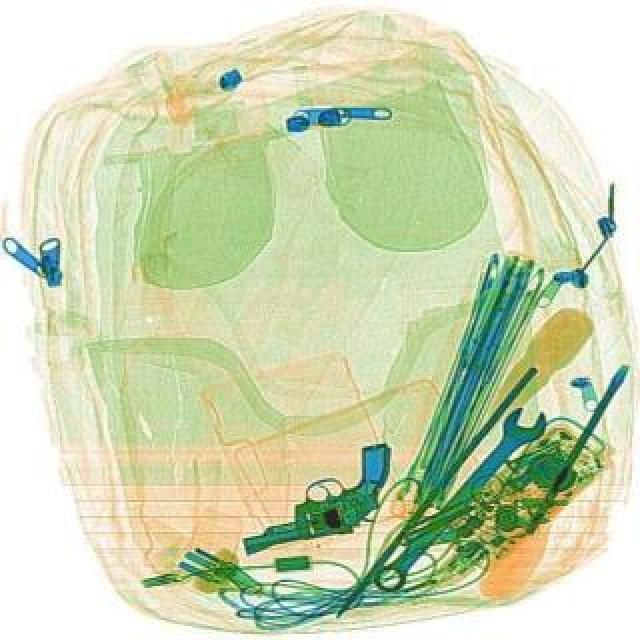gun: (224, 442, 400, 550)
scissors: (362, 396, 554, 598)
